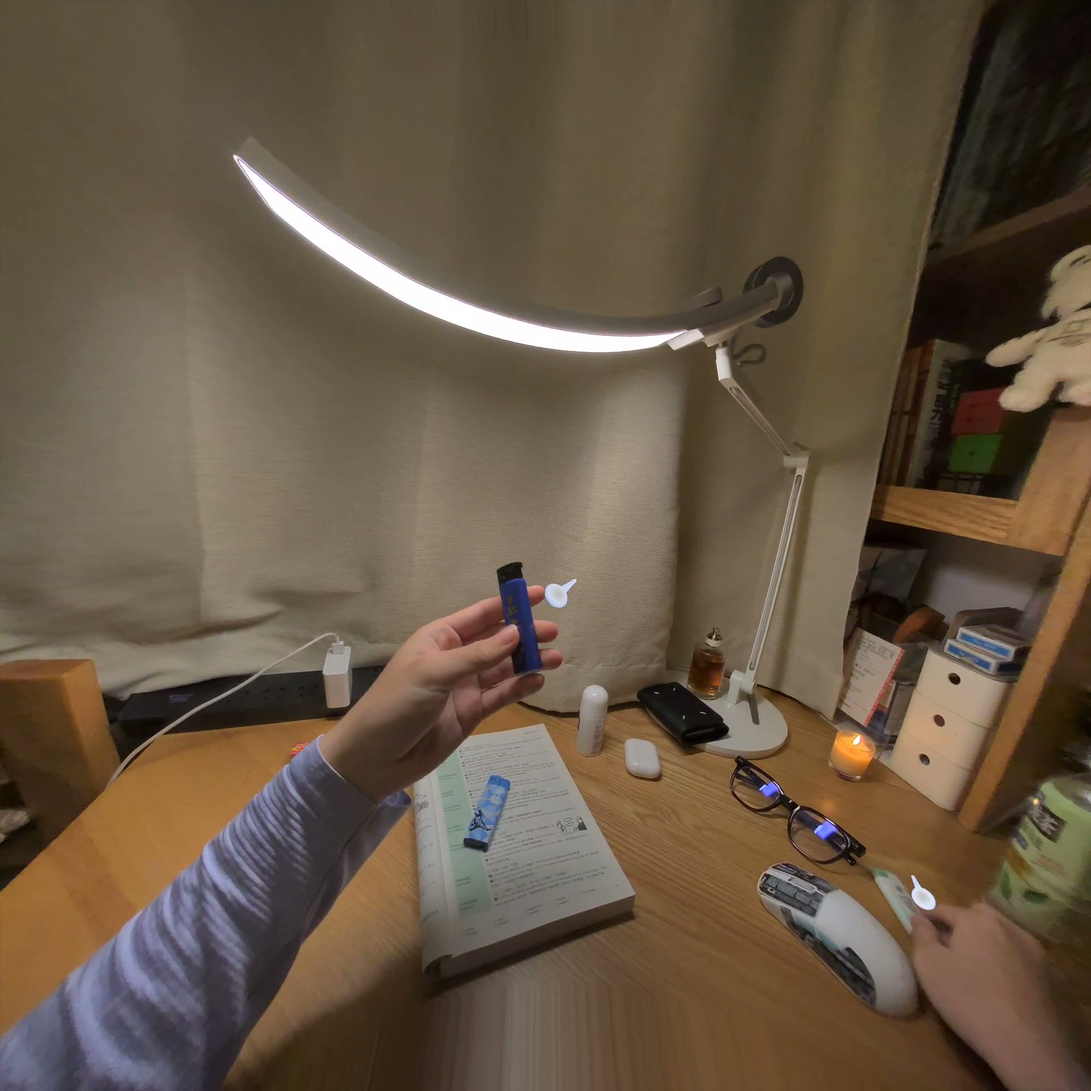lighter: (497, 562, 543, 676)
